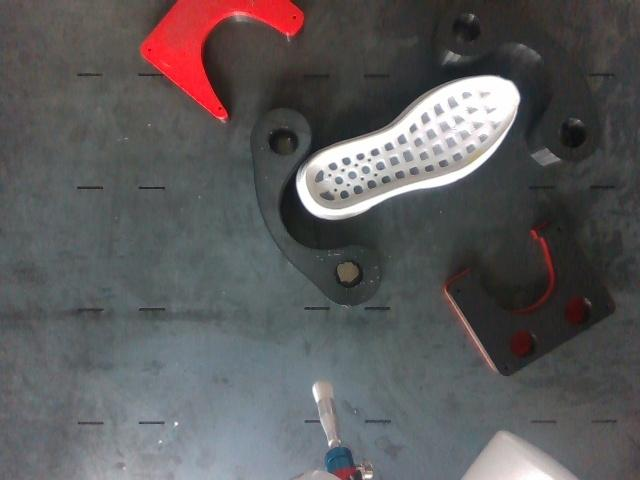shoes: (305, 76, 519, 210)
